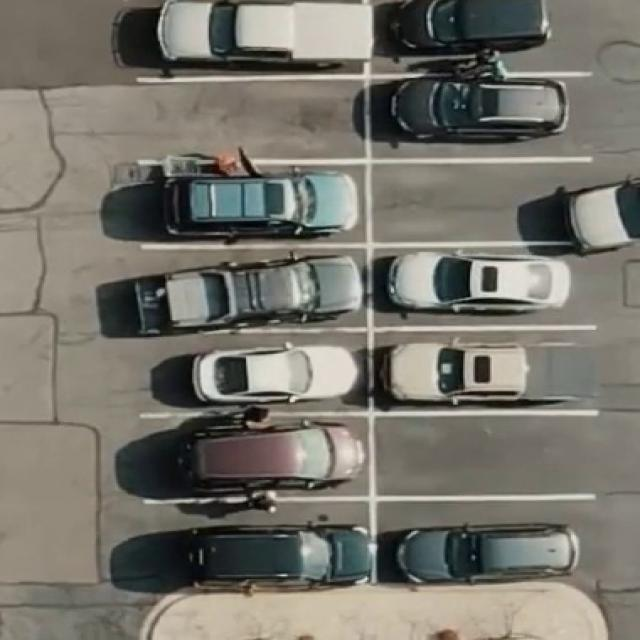empty: (382, 422, 597, 491), (145, 88, 355, 153)
notEmpty: (150, 509, 366, 583), (378, 253, 594, 325), (148, 424, 367, 494), (378, 86, 588, 157), (384, 508, 588, 581), (148, 256, 360, 325), (381, 338, 598, 405), (148, 3, 355, 73), (152, 170, 362, 239), (377, 169, 596, 235), (385, 1, 591, 71), (150, 341, 360, 407)
